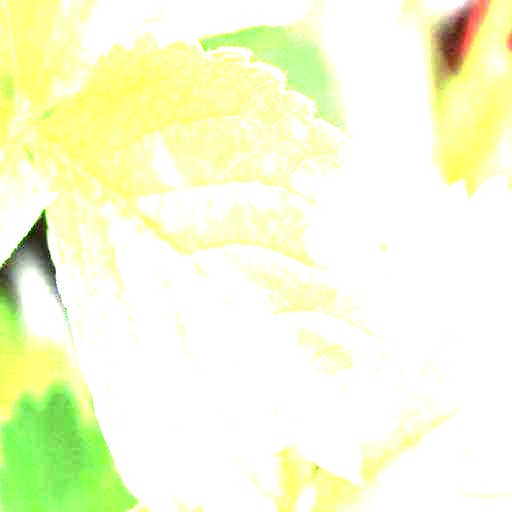Powdery Mildew Leaf: (29, 25, 410, 511)
